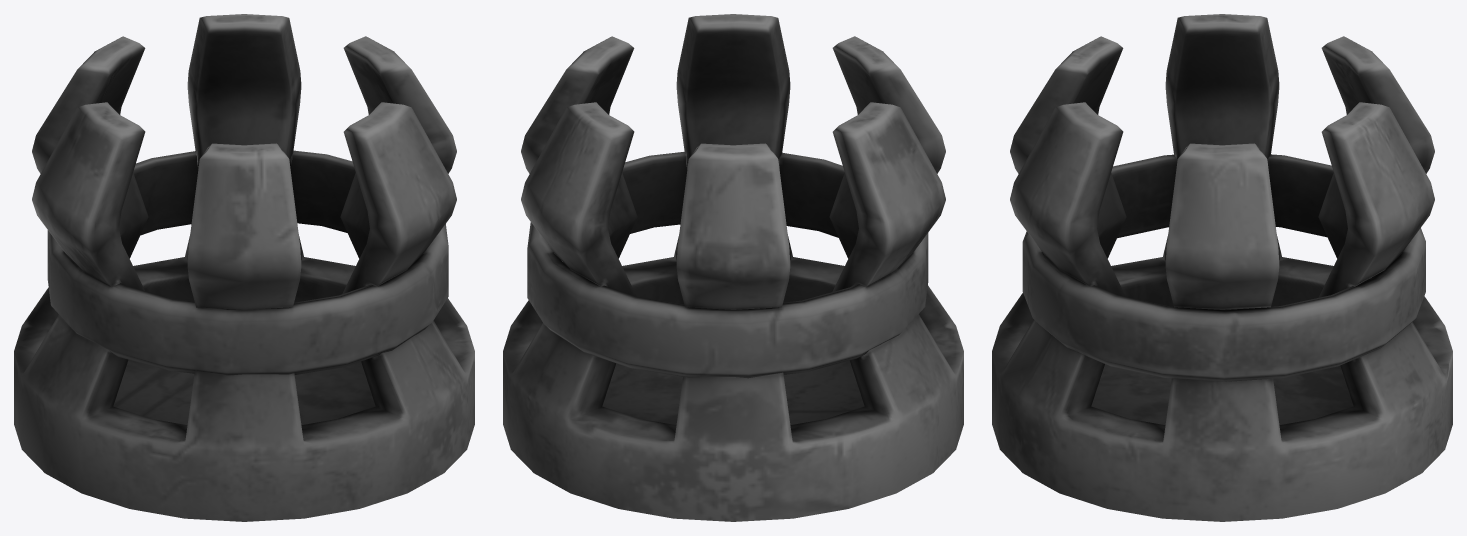
File: MarshLantern_a01.fbx
3 renders of one model, left to right at view 1: azimuth 30°, elevation 25°; view 2: azimuth 150°, elevation 25°; view 3: azimuth 270°, elevation 25°, orthographic.
Visible parts, largest first — view 1: Lantern_a01; view 2: Lantern_a01; view 3: Lantern_a01.
Boxes of the visible parts, x1,y1,x2,y2 form: Lantern_a01: (14, 14, 474, 521); Lantern_a01: (503, 14, 963, 521); Lantern_a01: (992, 14, 1452, 521).
Bounding box in the file's own units: 117 × 94.96 × 117.
